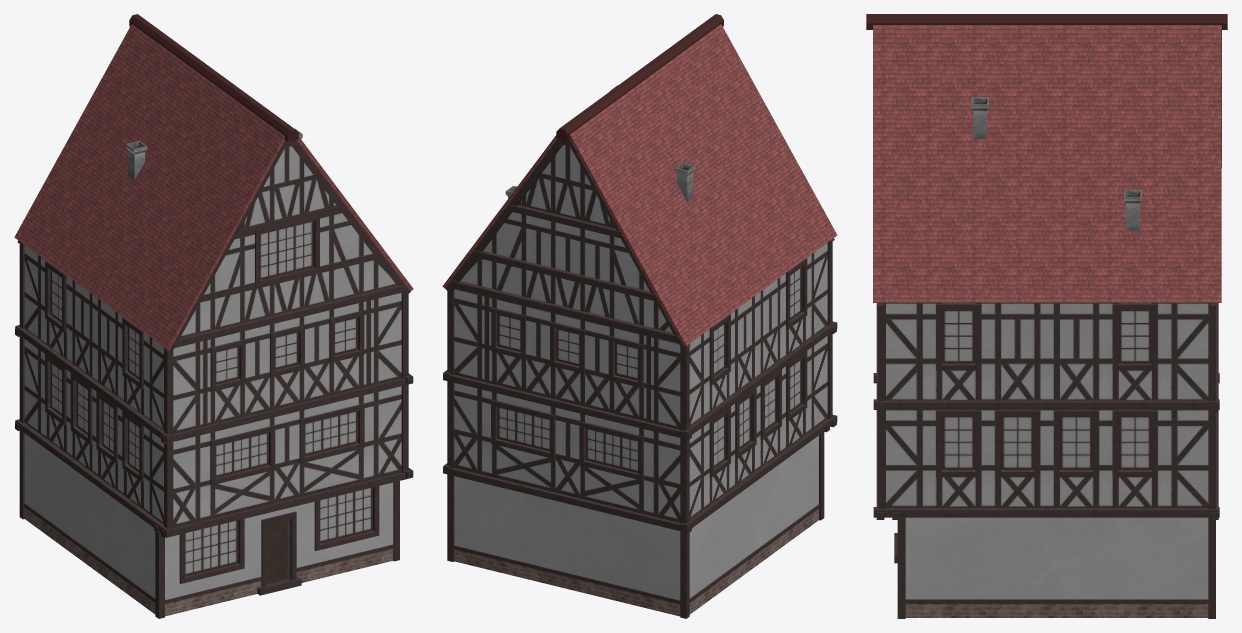
The model's file is house_1.glb.
3 renders of one model, left to right at view 1: azimuth 30°, elevation 25°; view 2: azimuth 150°, elevation 25°; view 3: azimuth 270°, elevation 25°, orthographic. The views are drawn at different scales.
Parts seen in each view (by area): view 1: medieval_house_sample_01; view 2: medieval_house_sample_01; view 3: medieval_house_sample_01.
Part boxes in pixels (x1,y1,x2,y2): medieval_house_sample_01: (14,14,413,618); medieval_house_sample_01: (442,14,837,618); medieval_house_sample_01: (866,14,1227,618).
Bounding box in the file's own units: 1.11 × 2 × 1.22.
1 material, 1 textured.
